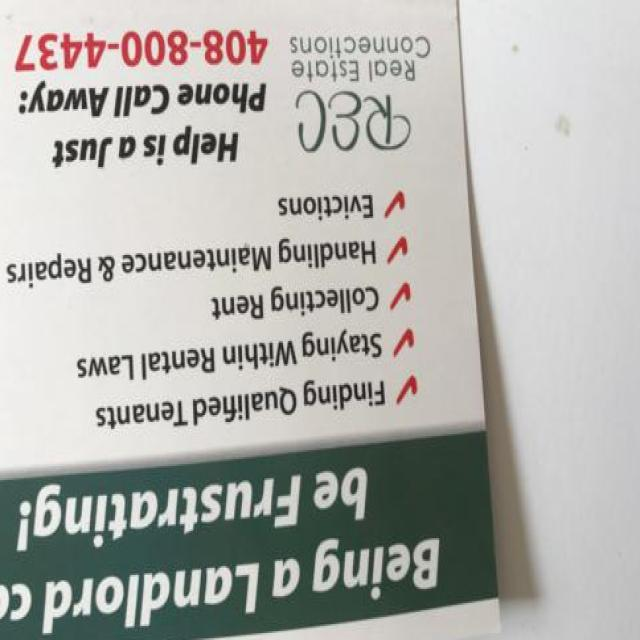kertas: (0, 0, 502, 640)
